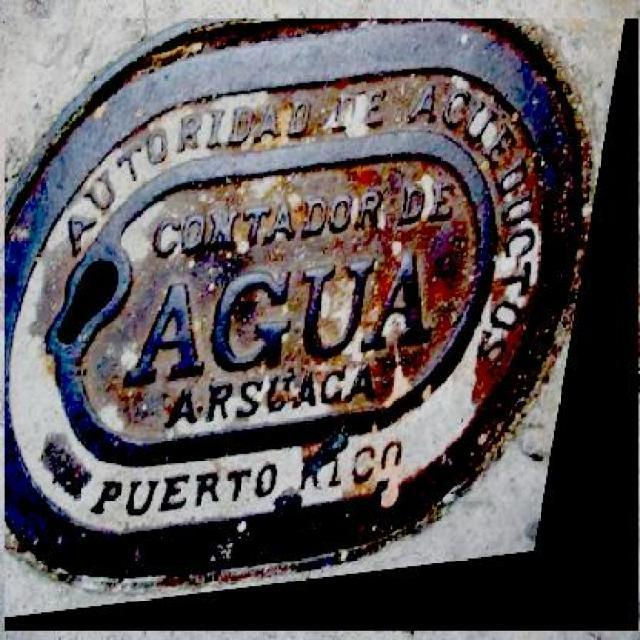Manhole: (4, 18, 638, 632)
